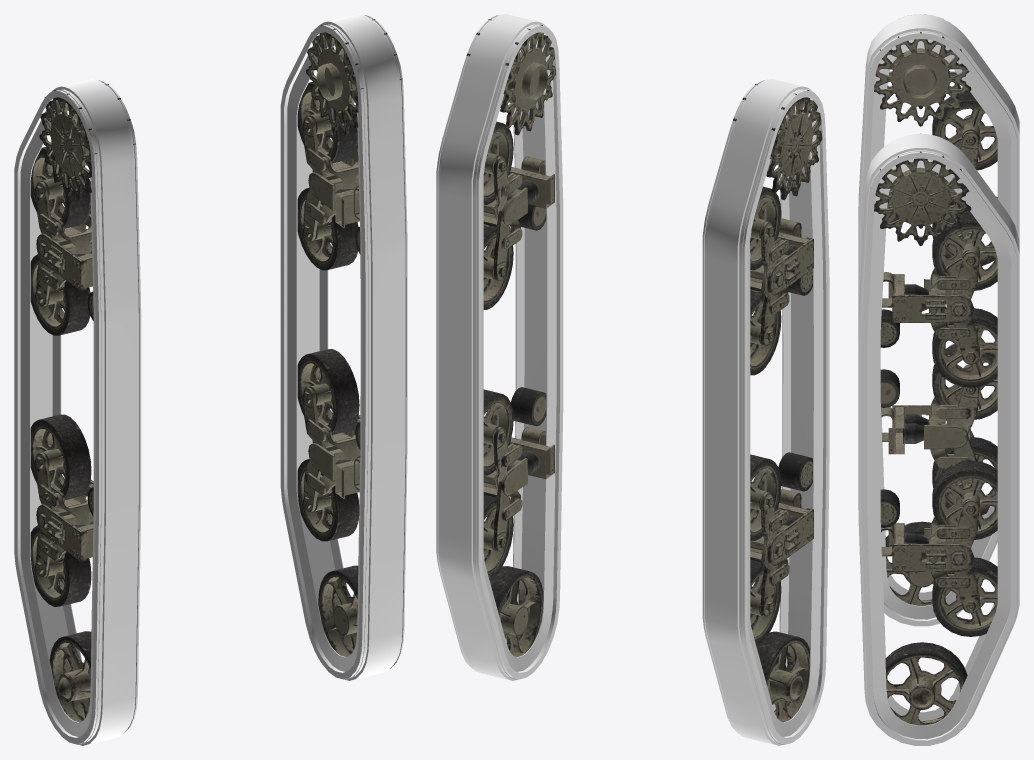
The model's file is Chassis.glb.
The picture shows the model from 3 angles, left to right: view 1: azimuth 30°, elevation 25°; view 2: azimuth 150°, elevation 25°; view 3: azimuth 270°, elevation 25°; orthographic projection. The views are drawn at different scales.
Visible parts, largest first — view 1: set_0_group_0, set_1_group_0, set_2_group_0, set_3_group_0; view 2: set_1_group_0, set_0_group_0, set_3_group_0, set_2_group_0; view 3: set_3_group_0, set_0_group_0, set_2_group_0, set_1_group_0.
Part boxes in pixels (bbox=[...]): set_0_group_0: bbox=[280, 14, 407, 680]; set_1_group_0: bbox=[14, 79, 141, 745]; set_2_group_0: bbox=[30, 84, 135, 722]; set_3_group_0: bbox=[297, 19, 402, 656]; set_1_group_0: bbox=[702, 79, 829, 745]; set_0_group_0: bbox=[436, 14, 563, 680]; set_3_group_0: bbox=[466, 19, 555, 657]; set_2_group_0: bbox=[733, 84, 822, 722]; set_3_group_0: bbox=[870, 133, 997, 725]; set_0_group_0: bbox=[858, 133, 1019, 745]; set_2_group_0: bbox=[870, 32, 997, 605]; set_1_group_0: bbox=[858, 14, 1019, 626].
Bounding box in the file's own units: 2.21 × 4.29 × 1.05.
4 materials, 2 textured.
